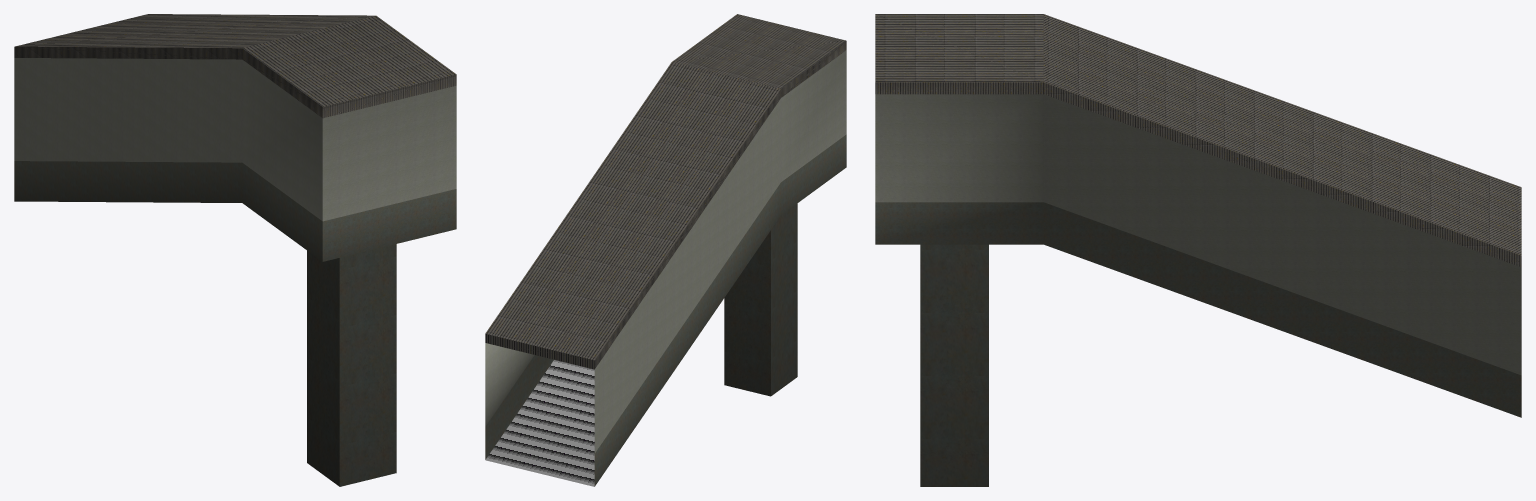
The picture shows the model from 3 angles, left to right: view 1: azimuth 30°, elevation 25°; view 2: azimuth 150°, elevation 25°; view 3: azimuth 270°, elevation 25°; orthographic projection. The views are drawn at different scales.
Parts seen in each view (by area): view 1: obj31; view 2: obj31; view 3: obj31.
Boxes of the visible parts, x1=… form: obj31: x1=14, y1=14, x2=456, y2=486; obj31: x1=485, y1=14, x2=846, y2=486; obj31: x1=875, y1=14, x2=1521, y2=486.
Bounding box in the file's own units: 11.77 × 34.02 × 46.96.
Materials: 4 (4 with a texture image).
